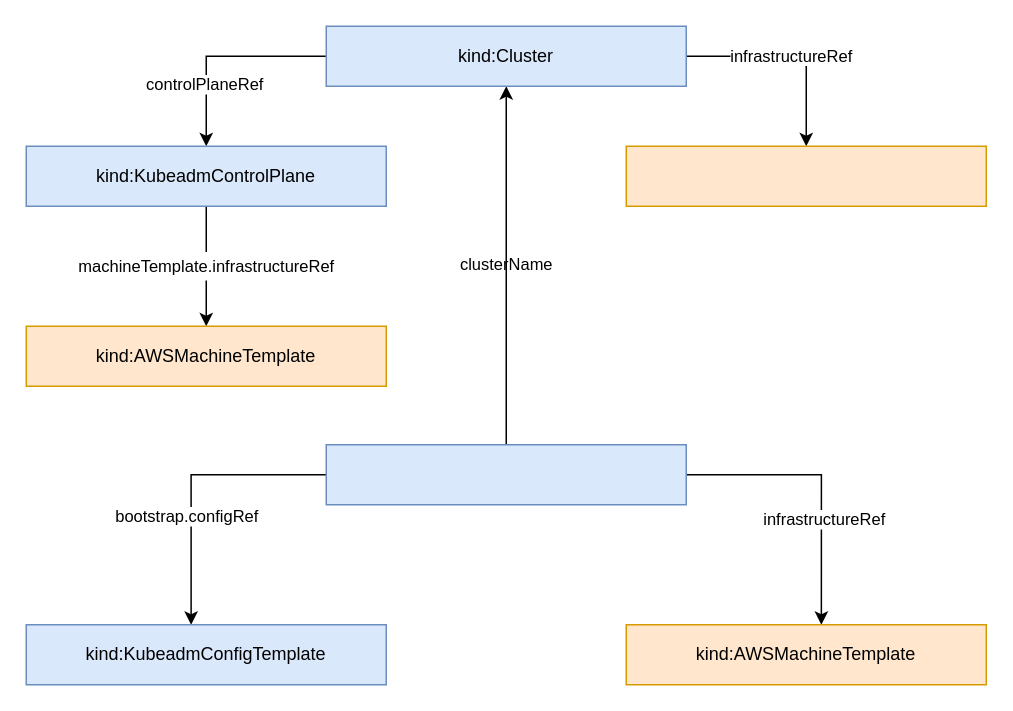
The diagram is 1013 pixels wide and 711 high, and some of its shapes have lost their labels. The shapes that lost their labels are listed below. From the top down, each one's box as (x1, y1, x2, y2) in pixels, then its label:
(625, 145, 986, 206): kind:AWSCluster
(325, 443, 686, 505): kind:MachineDeployment
